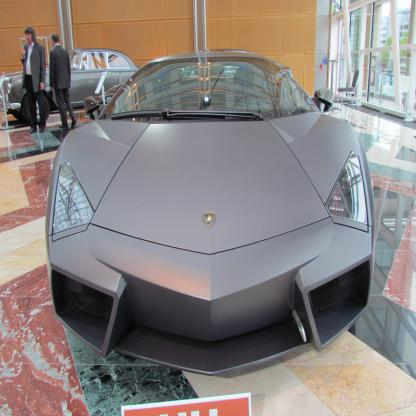Car: (46, 49, 376, 376), (0, 48, 141, 125)
